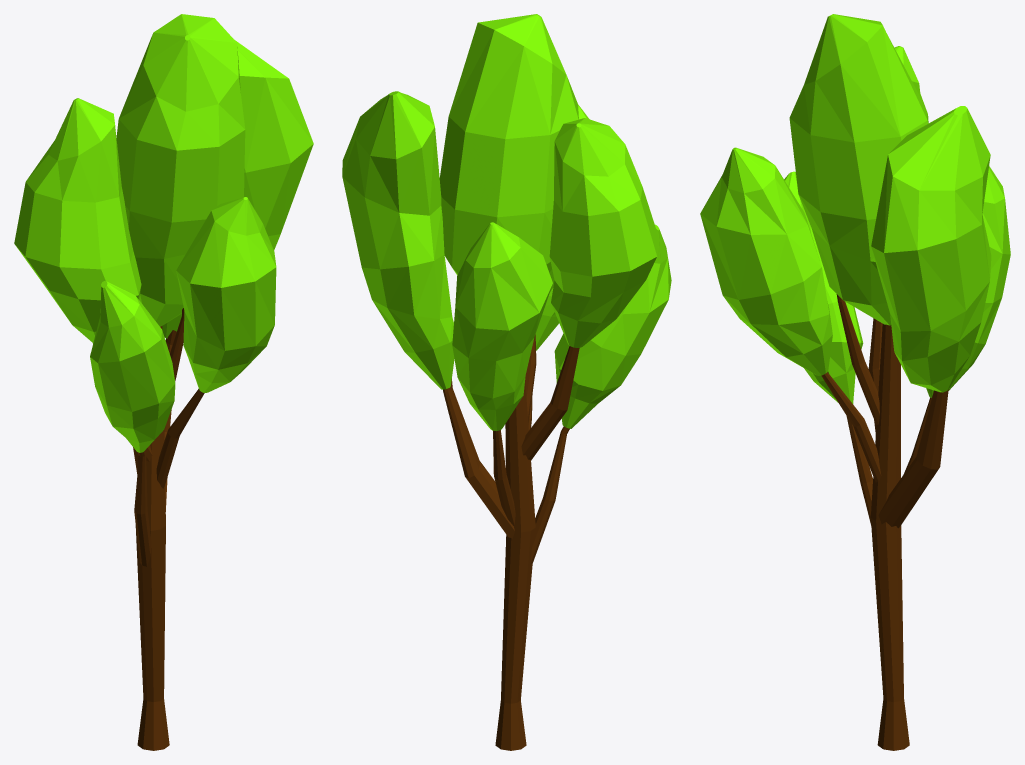
File: FunkyTree01.FBX
3 renders of one model, left to right at view 1: azimuth 30°, elevation 25°; view 2: azimuth 150°, elevation 25°; view 3: azimuth 270°, elevation 25°, orthographic. The views are drawn at different scales.
Visible parts, largest first — view 1: FunkyTree; view 2: FunkyTree; view 3: FunkyTree.
Part boxes in pixels (x1=…): FunkyTree: x1=14, y1=14, x2=313, y2=750; FunkyTree: x1=342, y1=14, x2=671, y2=750; FunkyTree: x1=700, y1=14, x2=1010, y2=750.
Size of the model in its own units: 4.79 by 4.27 by 11.09.
